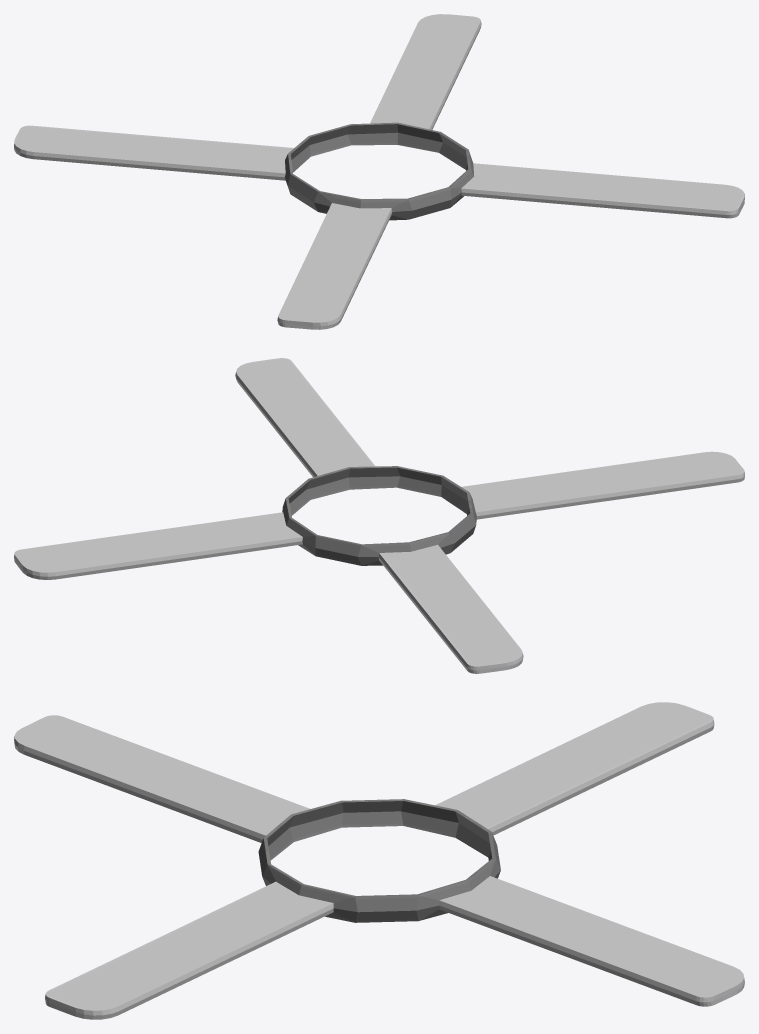
File: CeilingFanBlade.fbx
3 views of the same model, one above another, from view 1: azimuth 30°, elevation 25°; view 2: azimuth 150°, elevation 25°; view 3: azimuth 270°, elevation 25° (orthographic). The views are drawn at different scales.
Visible parts, largest first — view 1: FanBlades; view 2: FanBlades; view 3: FanBlades.
Boxes of the visible parts, x1,y1,x2,y2 form: FanBlades: (14,14,744,329); FanBlades: (14,358,744,673); FanBlades: (14,702,744,1019).
Bounding box in the file's own units: 311 × 12.69 × 311.
